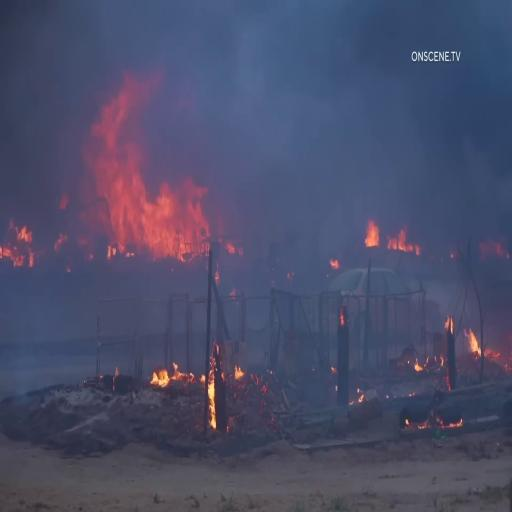fire: (90, 88, 214, 256)
